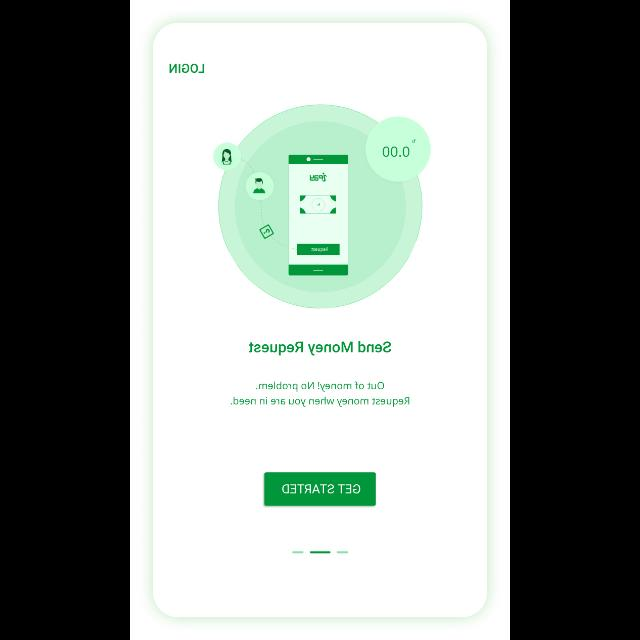image: (213, 104, 431, 310)
pageindicator: (292, 550, 348, 554)
panel: (150, 22, 488, 620)
text: (230, 382, 410, 408), (248, 342, 392, 356), (168, 64, 204, 74)
textbutton: (264, 472, 376, 506)
